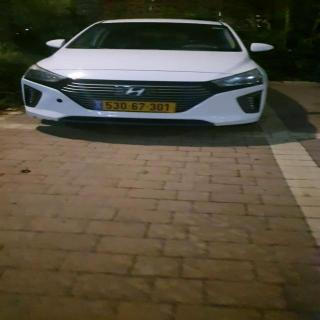LicensePlate: (102, 100, 176, 113)
